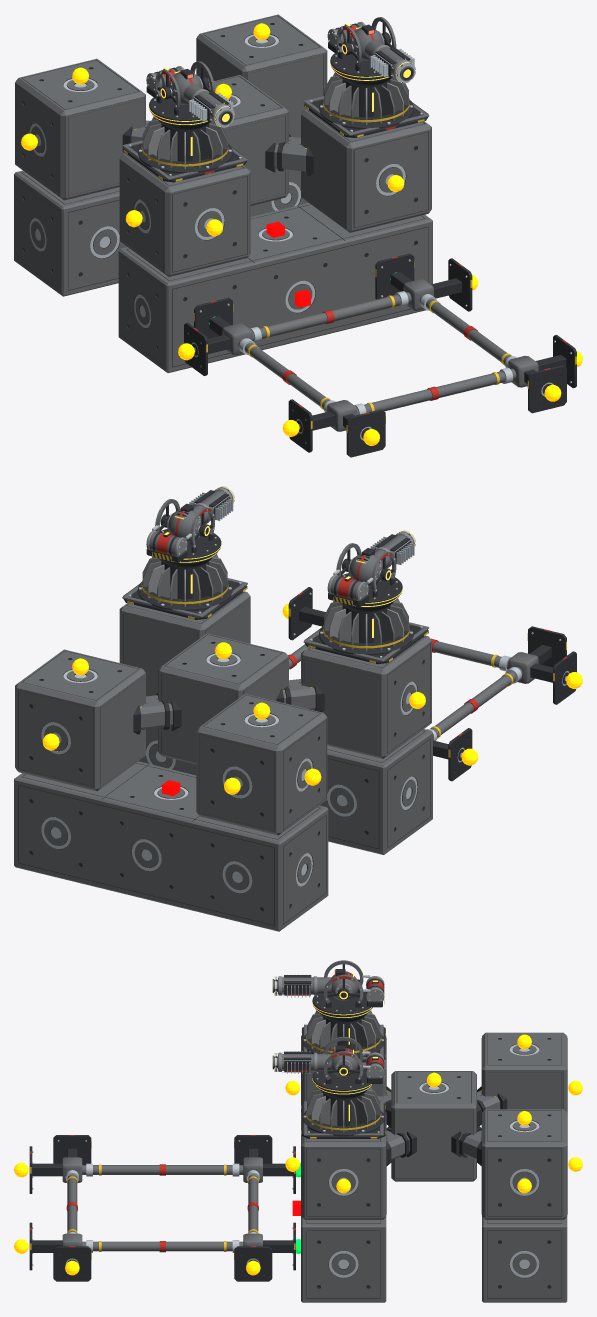
Rendered from ASM_cross_deck.glb.
3 views of the same model, one above another, from view 1: azimuth 30°, elevation 25°; view 2: azimuth 150°, elevation 25°; view 3: azimuth 270°, elevation 25° (orthographic). The views are drawn at different scales.
Parts seen in each view (by area): view 1: R4C_STRUT_CROSS, R4B_Beam3.001, R4C_ROD_FRAME, R4B_Beam3, R4W_BeamCutter_Base, R4W_BeamCutter_Base.001, R4W_BeamCutter_Yaw.001, R4W_BeamCutter_Yaw, R4W_BeamCutter_Pitch.001, R4W_BeamCutter_Pitch; view 2: R4C_STRUT_CROSS, R4B_Beam3, R4B_Beam3.001, R4C_ROD_FRAME, R4W_BeamCutter_Base.001, R4W_BeamCutter_Base, R4W_BeamCutter_Yaw, R4W_BeamCutter_Yaw.001, R4W_BeamCutter_Pitch, R4W_BeamCutter_Pitch.001; view 3: R4C_STRUT_CROSS, R4C_ROD_FRAME, R4B_Beam3.001, R4B_Beam3, R4W_BeamCutter_Base.001, R4W_BeamCutter_Base, R4W_BeamCutter_Yaw, R4W_BeamCutter_Yaw.001, R4W_BeamCutter_Pitch, R4W_BeamCutter_Pitch.001.
Part boxes in pixels (x1,y1,x2,y2): R4C_STRUT_CROSS: (15, 14, 431, 276); R4B_Beam3.001: (118, 203, 432, 372); R4C_ROD_FRAME: (184, 253, 576, 457); R4B_Beam3: (14, 169, 308, 296); R4W_BeamCutter_Base: (122, 114, 247, 182); R4W_BeamCutter_Base.001: (303, 70, 429, 137); R4W_BeamCutter_Yaw.001: (327, 17, 396, 78); R4W_BeamCutter_Yaw: (146, 61, 214, 123); R4W_BeamCutter_Pitch.001: (350, 24, 414, 81); R4W_BeamCutter_Pitch: (169, 69, 233, 125); R4C_STRUT_CROSS: (15, 591, 431, 835); R4B_Beam3: (14, 761, 328, 931); R4B_Beam3.001: (138, 728, 432, 854); R4C_ROD_FRAME: (288, 587, 576, 781); R4W_BeamCutter_Base.001: (122, 552, 247, 619); R4W_BeamCutter_Base: (303, 596, 429, 664); R4W_BeamCutter_Yaw: (327, 543, 402, 606); R4W_BeamCutter_Yaw.001: (146, 499, 221, 562); R4W_BeamCutter_Pitch: (348, 532, 413, 586); R4W_BeamCutter_Pitch.001: (167, 487, 232, 542); R4C_STRUT_CROSS: (301, 1032, 567, 1219); R4C_ROD_FRAME: (29, 1135, 295, 1281); R4B_Beam3.001: (301, 1217, 386, 1302); R4B_Beam3: (482, 1217, 567, 1302); R4W_BeamCutter_Base.001: (301, 1085, 385, 1138); R4W_BeamCutter_Base: (301, 1008, 385, 1062); R4W_BeamCutter_Yaw: (312, 960, 384, 1016); R4W_BeamCutter_Yaw.001: (312, 1036, 384, 1092); R4W_BeamCutter_Pitch: (272, 969, 358, 1000); R4W_BeamCutter_Pitch.001: (272, 1045, 358, 1077).
Size of the model in its own units: 1.81 by 1.61 by 3.46.
